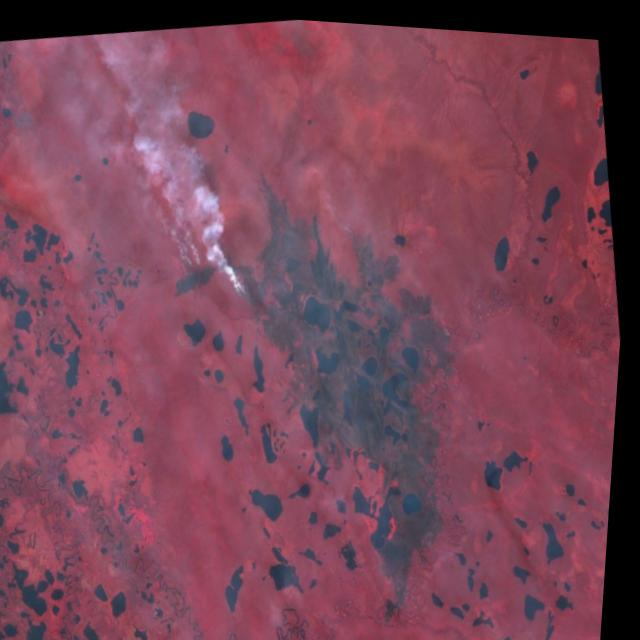fire: (176, 233, 277, 318)
